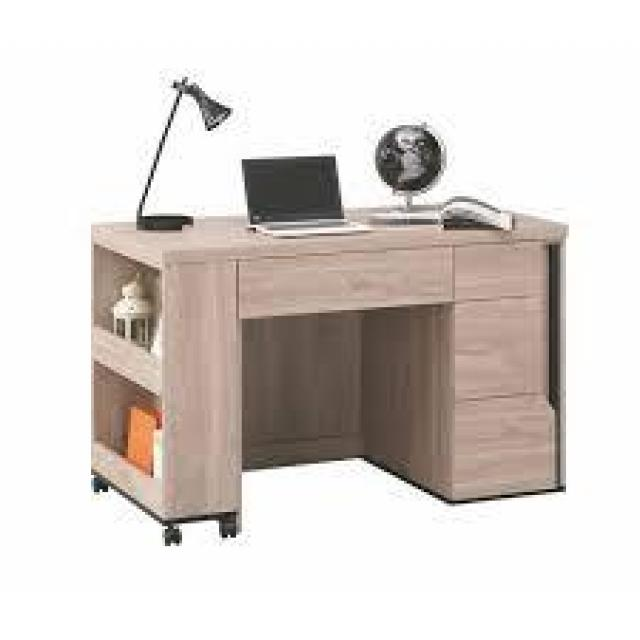table: (40, 70, 606, 564)
